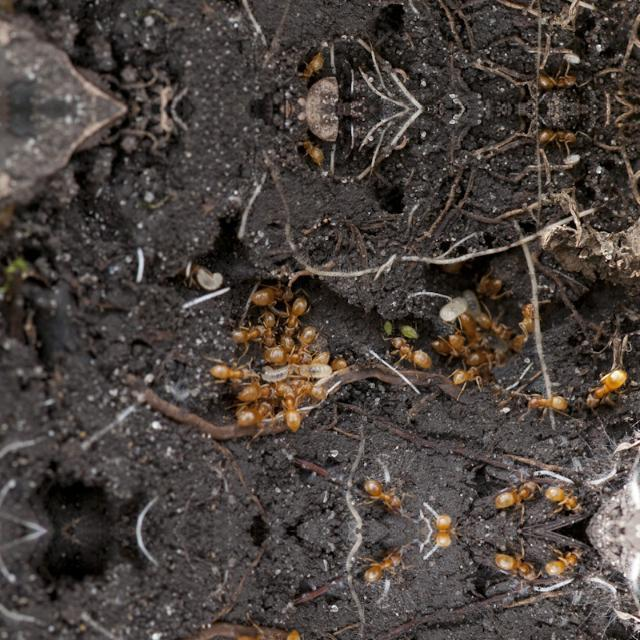Lasius: (485, 465, 537, 513), (485, 547, 537, 595), (578, 370, 634, 410), (357, 474, 411, 514), (357, 546, 411, 586), (520, 386, 580, 418), (388, 332, 432, 372), (280, 388, 310, 446), (294, 131, 334, 169), (294, 47, 334, 85), (279, 292, 307, 346), (542, 478, 586, 512), (542, 548, 586, 582), (288, 372, 334, 404), (209, 357, 255, 387), (239, 393, 271, 432), (223, 318, 264, 346), (234, 376, 280, 400), (265, 344, 311, 368), (478, 306, 512, 336), (257, 308, 279, 349), (517, 302, 543, 336), (452, 363, 488, 387), (278, 614, 310, 640), (253, 276, 279, 306), (476, 272, 502, 302), (296, 323, 318, 357), (462, 309, 484, 343), (428, 512, 458, 530), (428, 530, 458, 548), (430, 333, 454, 355), (312, 348, 338, 368), (239, 626, 271, 640), (450, 334, 472, 354), (332, 356, 354, 374)
